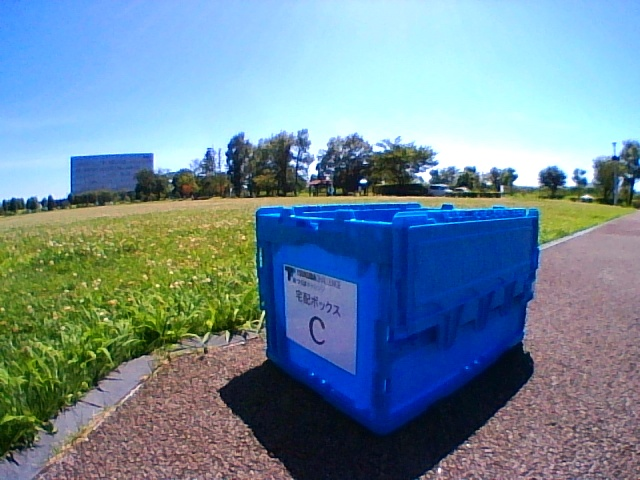blue_box: (256, 202, 539, 436)
tag_c: (299, 290, 337, 345)
